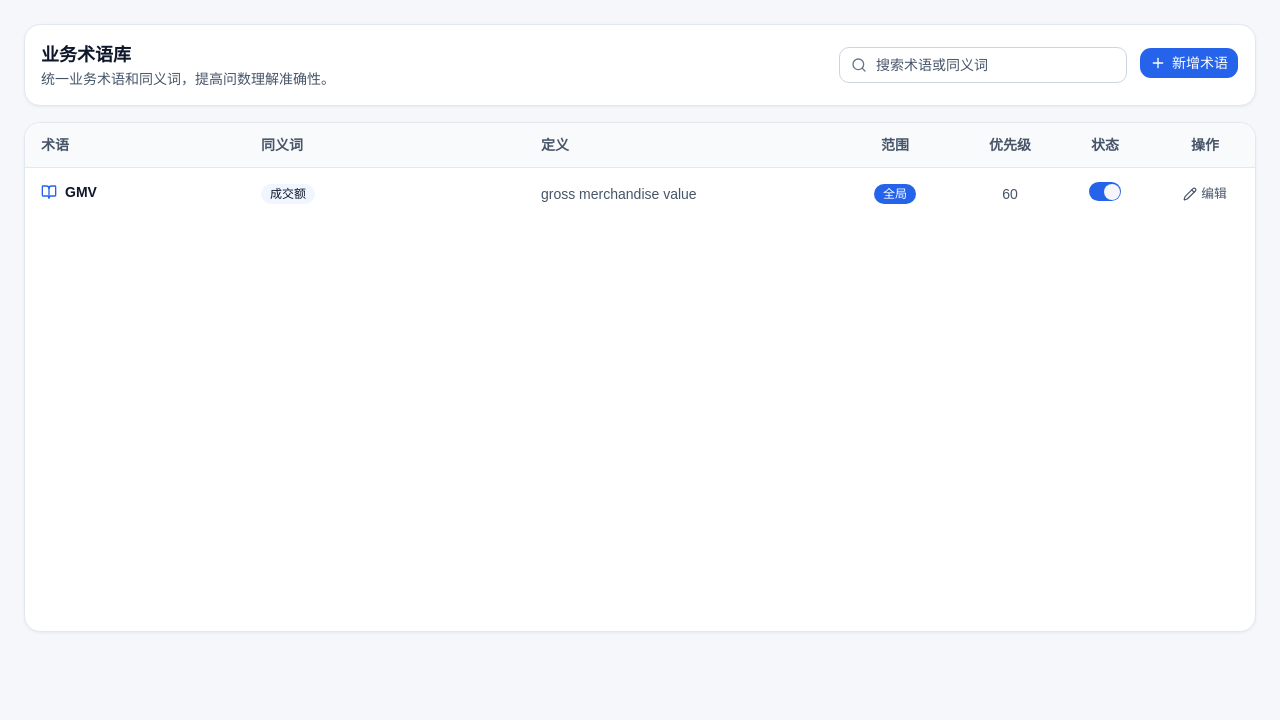
Scenario: GlossaryPage › shows readable feedback when non-admin toggle gets 403
Expected: the text "GMV" is shown, left=41, top=182, right=97, bottom=202
What coordinates should you click on to do the following:
click the switch named "切换术语 GMV 状态"
I would click on:
 (1105, 192)
Its box is left=1089, top=182, right=1121, bottom=201.
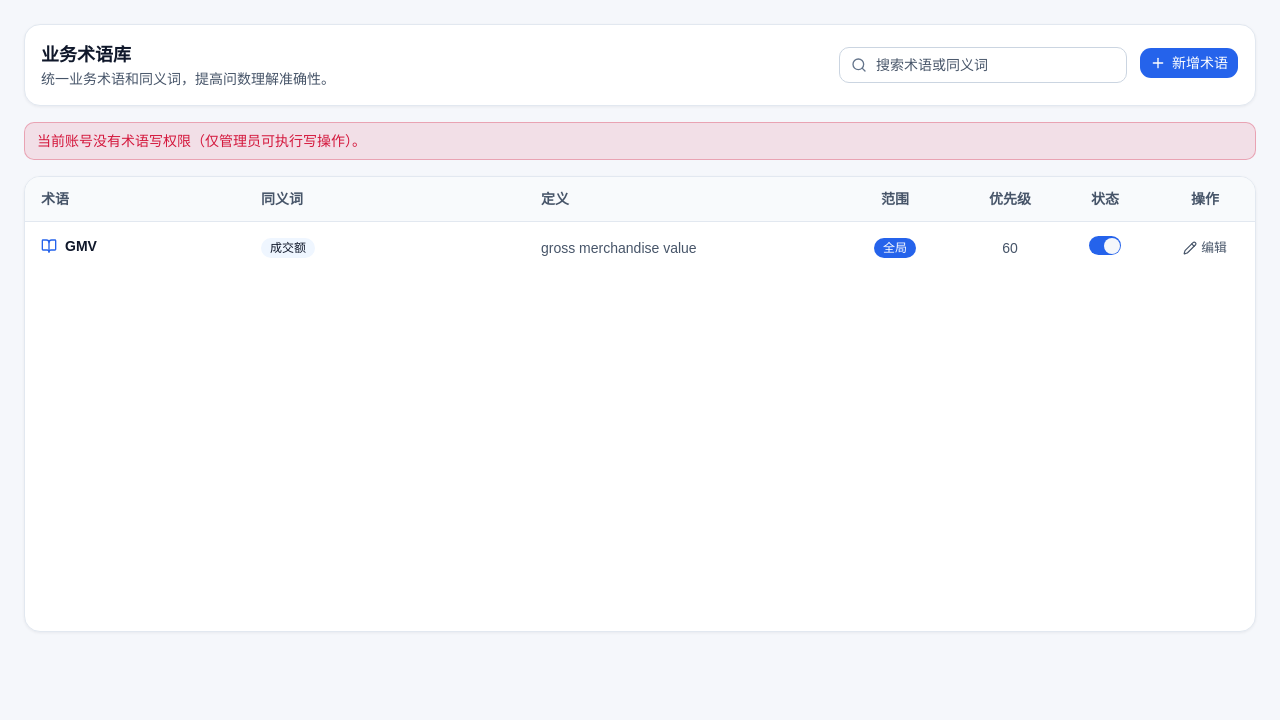
Result: the text "当前账号没有术语写权限（仅管理员可执行写操作）。" is shown at left=24, top=122, right=1256, bottom=160
